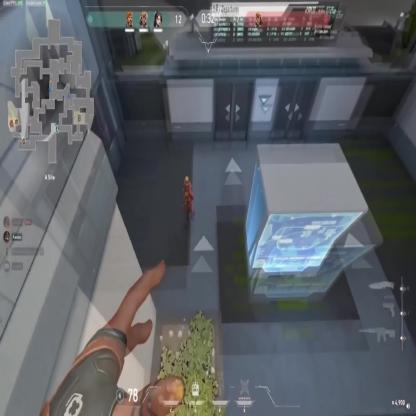enemy: (182, 172, 194, 221)
enemy_head: (185, 176, 189, 185)
